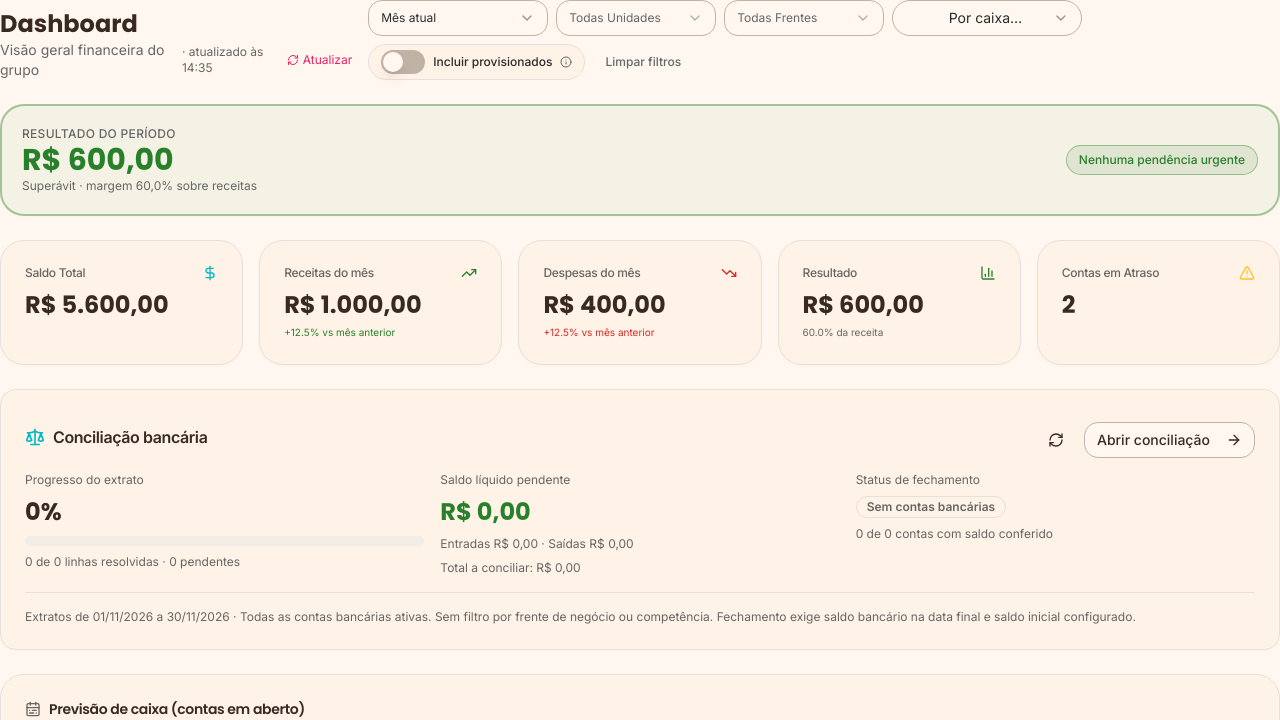
Test: Dashboard (tela) › cartão de receitas abre os lançamentos do mesmo período, tipo e regime
Click the link "Receitas do mês R$ 1.000,00 +12.5% vs mês anterior" at [381, 302], box left=259, top=240, right=502, bottom=365
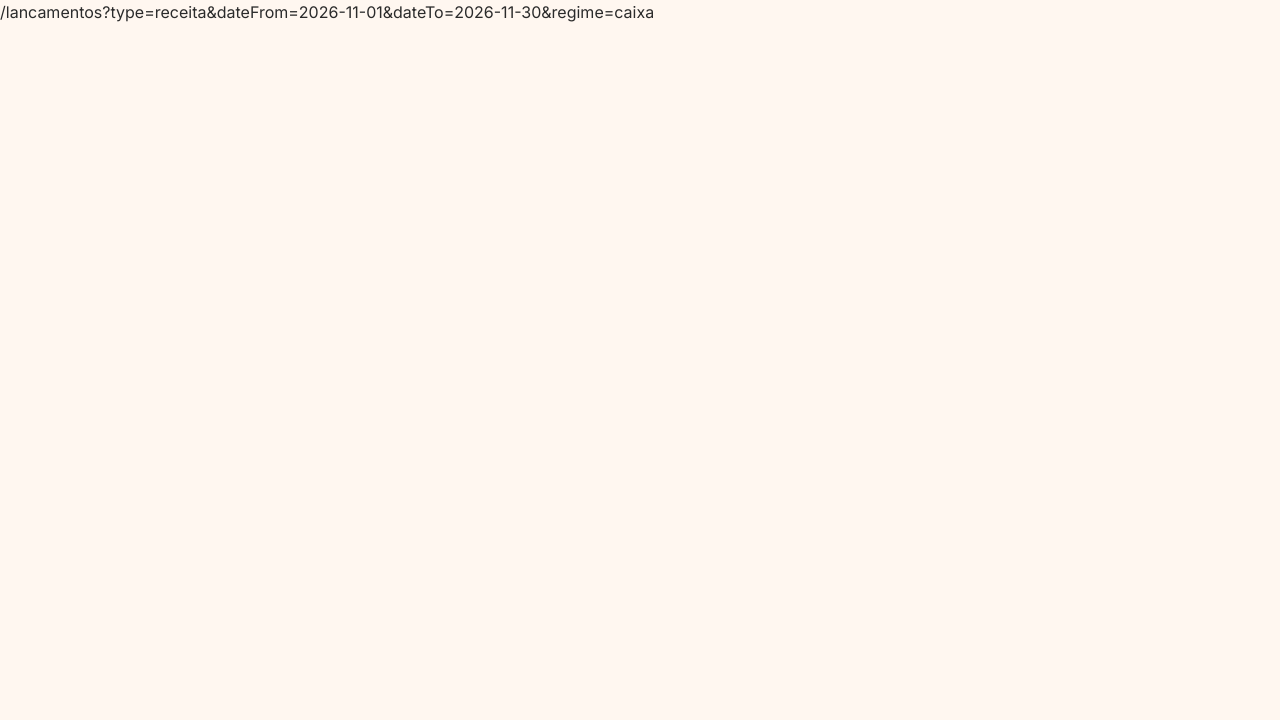
expect the text with test id "where" shows "/lancamentos?": met, box left=0, top=2, right=654, bottom=22
expect the text with test id "where" shows "type=receita": met, box left=102, top=2, right=654, bottom=22
expect the text with test id "where" shows "regime=caixa": met, box left=102, top=2, right=654, bottom=22
